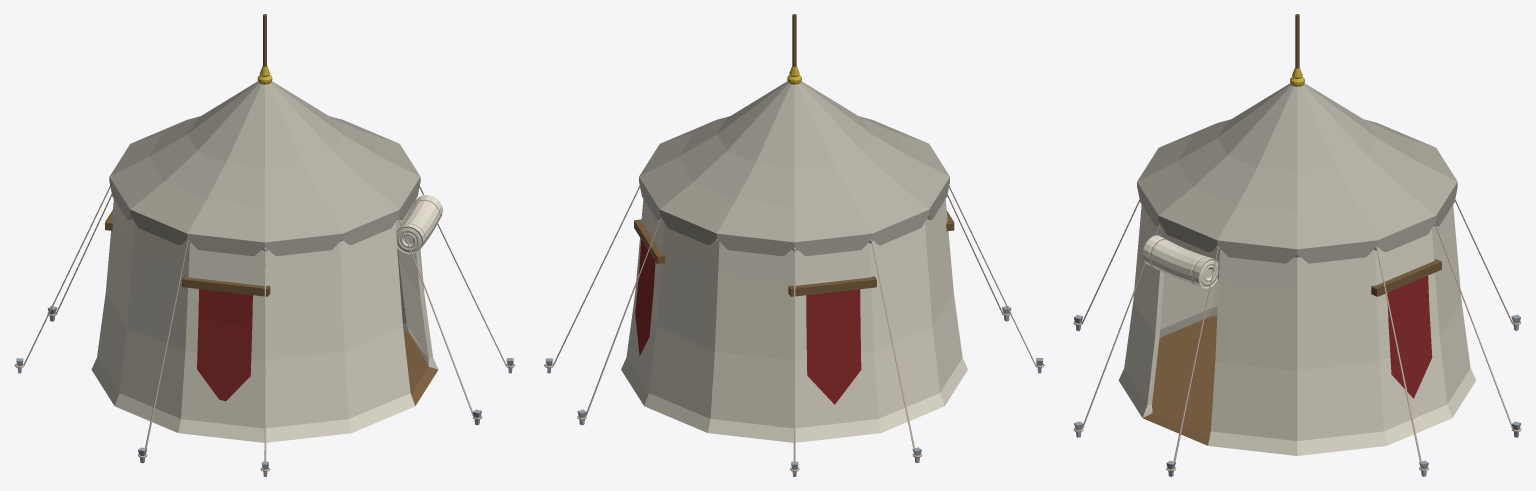
File: Tent 2.fbx
The picture shows the model from 3 angles, left to right: view 1: azimuth 30°, elevation 25°; view 2: azimuth 150°, elevation 25°; view 3: azimuth 270°, elevation 25°; orthographic projection. The views are drawn at different scales.
Visible parts, largest first — view 1: Tent 2; view 2: Tent 2; view 3: Tent 2.
Part boxes in pixels (bbox=[...]): Tent 2: bbox=[14, 14, 515, 476]; Tent 2: bbox=[544, 14, 1044, 476]; Tent 2: bbox=[1073, 14, 1521, 476].
Size of the model in its own units: 6.16 by 5.6 by 6.17.
